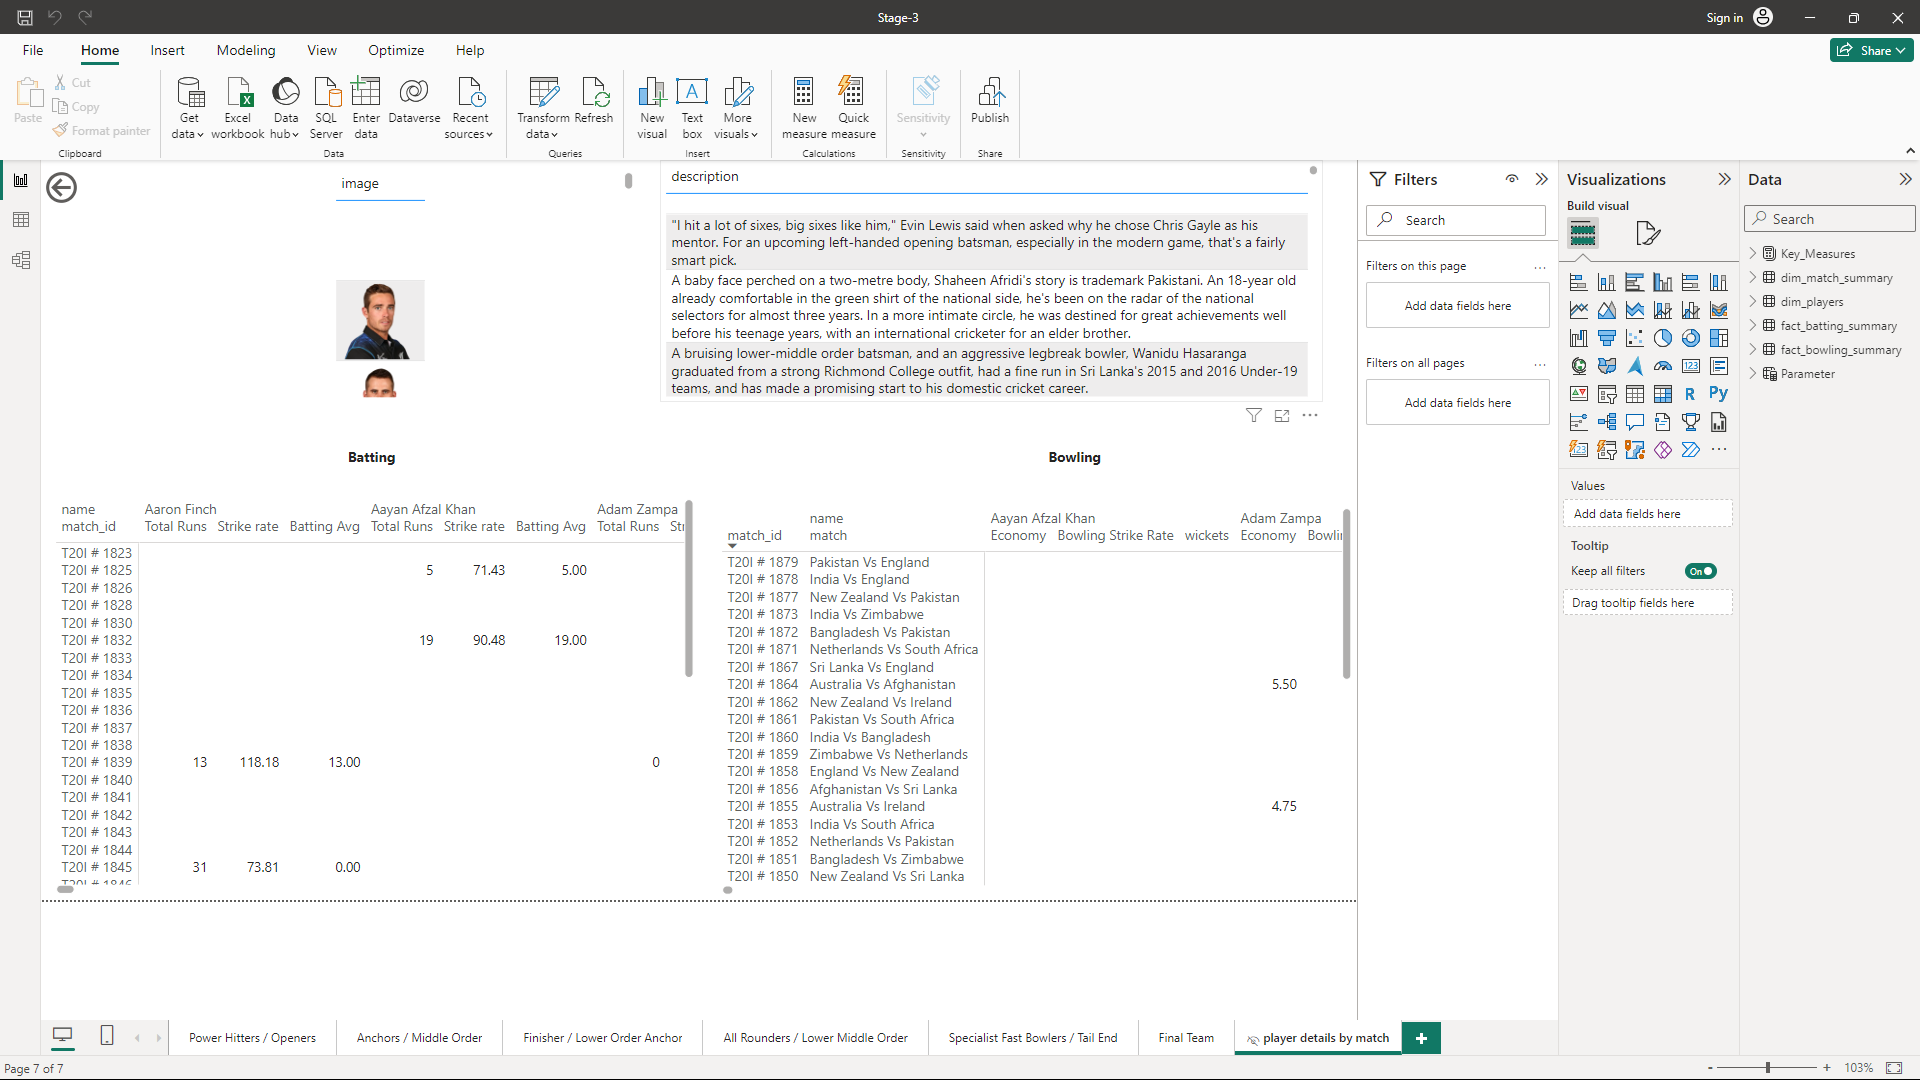

The page's visual inventory and layout, read from the dashboard file:
{"tool":"powerbi","page":{"name":"player details by match","canvas":[1280,720],"ordinal":2},"visuals":[{"type":"pivotTable","fields":{"Values":["Key_Measures.Total Runs","Key_Measures.Strike rate","Key_Measures.Bat Avg"],"Columns":["dim_player.name"],"Rows":["fact_batting_summary.match_id","fact_batting_summary.match"]},"box":[10.2,325.1,629.8,394.5],"z":0},{"type":"actionButton","box":[0,6.8,100.2,39.9],"z":1000},{"type":"textbox","box":[281.1,274.5,80.7,31.1],"z":2000},{"type":"textbox","box":[964.9,274.5,80.7,31.1],"z":3000},{"type":"pivotTable","fields":{"Values":["Key_Measures.Economy","Key_Measures.Bowling Strike Rate","Key_Measures.wickets"],"Columns":["dim_player.name"],"Rows":["fact_bowling_summary.match_id","fact_bowling_summary.match"]},"box":[657.5,333.9,622.5,386.1],"z":4000},{"type":"tableEx","fields":{"Values":["dim_player.image"]},"box":[281.1,6.8,299.6,228.6],"z":5000},{"type":"tableEx","fields":{"Values":["dim_player.description"]},"box":[602.1,0,644.9,235.4],"z":6000}]}

Visuals, with their boxes on the page's 1280x720 design canvas (x1, y1, x2, y2). These are canvas units, not pixel positions in the 1920x1080 screenshot, which may show the page scaled, cropped or inside an application window:
pivotTable - Key_Measures.Total Runs x Key_Measures.Strike rate: (left=10, top=325, right=640, bottom=720)
actionButton: (left=0, top=7, right=100, bottom=47)
textbox: (left=281, top=274, right=362, bottom=306)
textbox: (left=965, top=274, right=1046, bottom=306)
pivotTable - Key_Measures.Economy x Key_Measures.Bowling Strike Rate: (left=658, top=334, right=1280, bottom=720)
tableEx - dim_player.image: (left=281, top=7, right=581, bottom=235)
tableEx - dim_player.description: (left=602, top=0, right=1247, bottom=235)
